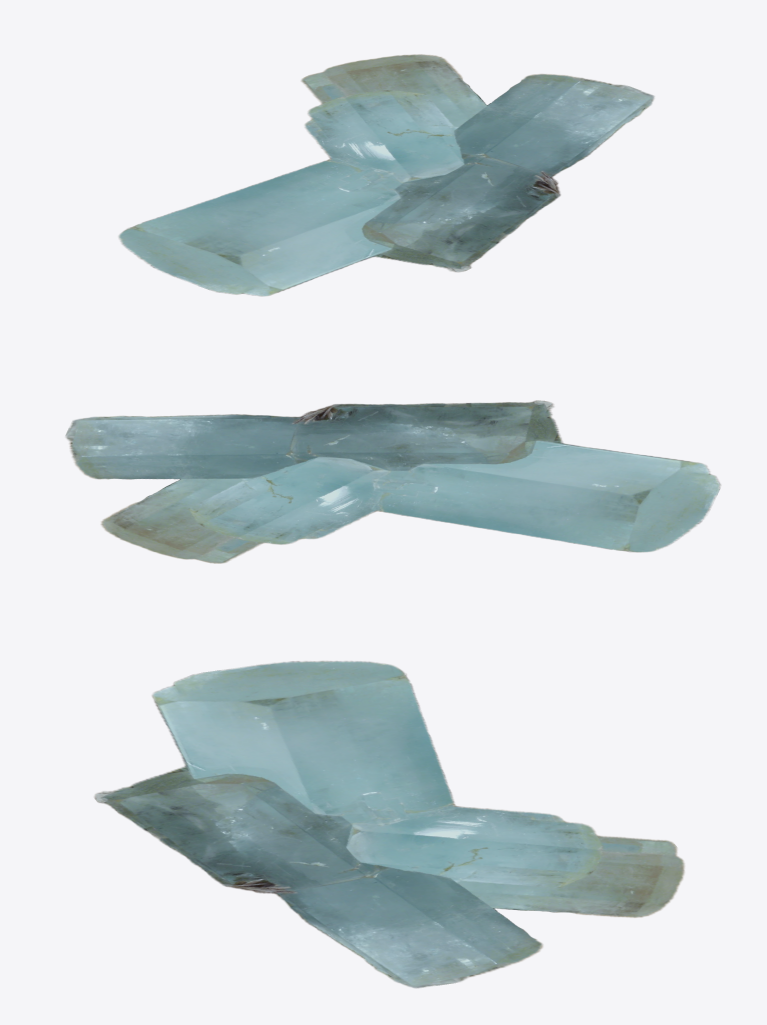
Rendered from joia2.glb.
3 views of the same model, one above another, from view 1: azimuth 30°, elevation 25°; view 2: azimuth 150°, elevation 25°; view 3: azimuth 270°, elevation 25° (orthographic). The views are drawn at different scales.
Visible parts, largest first — view 1: cristal.001; view 2: cristal.001; view 3: cristal.001.
Boxes of the visible parts, left/top/right/bottom form: cristal.001: left=118, top=54, right=654, bottom=296; cristal.001: left=65, top=400, right=720, bottom=563; cristal.001: left=94, top=661, right=684, bottom=988.
Bounding box in the file's own units: 0.1465 × 0 × 0.12.
Materials: 1 (1 with a texture image).
